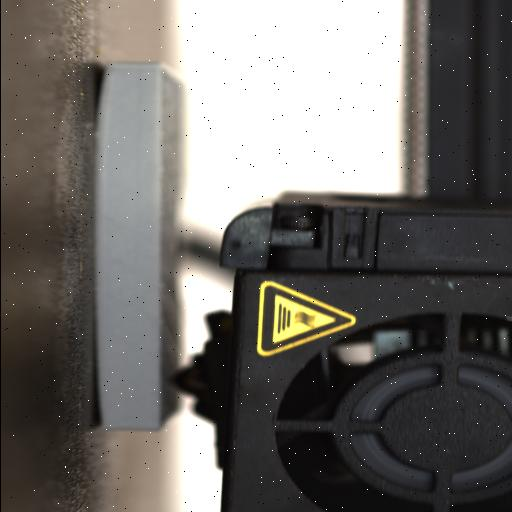warp: (91, 370, 119, 432)
